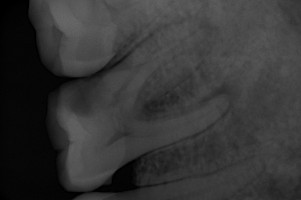Furcation Involvement: (200, 81, 241, 107)
